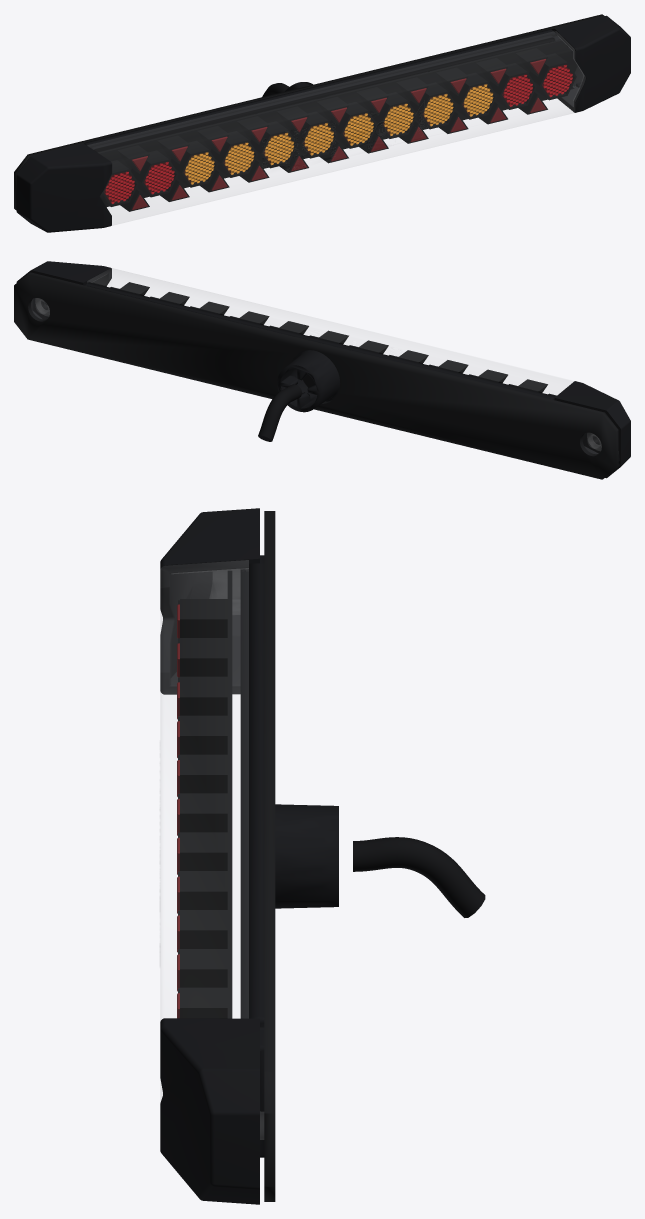
The model's file is lamp-lzd3141.glb.
3 renders of one model, top to bottom at view 1: azimuth 30°, elevation 25°; view 2: azimuth 150°, elevation 25°; view 3: azimuth 270°, elevation 25°, orthographic. The views are drawn at different scales.
Visible parts, largest first — view 1: BODY, INNER, LENS, EMIT.turn, EMIT.position, EMIT.stop; view 2: BODY, LENS, INNER; view 3: BODY, INNER, LENS, EMIT.position.
Part boxes in pixels (bbox=[...]): BODY: bbox=[14, 14, 630, 232]; INNER: bbox=[98, 39, 577, 211]; LENS: bbox=[108, 32, 585, 225]; EMIT.turn: bbox=[183, 84, 493, 184]; EMIT.position: bbox=[132, 59, 546, 210]; EMIT.stop: bbox=[104, 64, 572, 203]; BODY: bbox=[14, 261, 630, 479]; LENS: bbox=[35, 268, 601, 450]; INNER: bbox=[110, 282, 556, 396]; BODY: bbox=[160, 508, 485, 1204]; INNER: bbox=[178, 570, 232, 1018]; LENS: bbox=[160, 560, 263, 1139]; EMIT.position: bbox=[177, 604, 179, 1018].
Size of the model in its own units: 0.252 by 0.027 by 0.0588.
